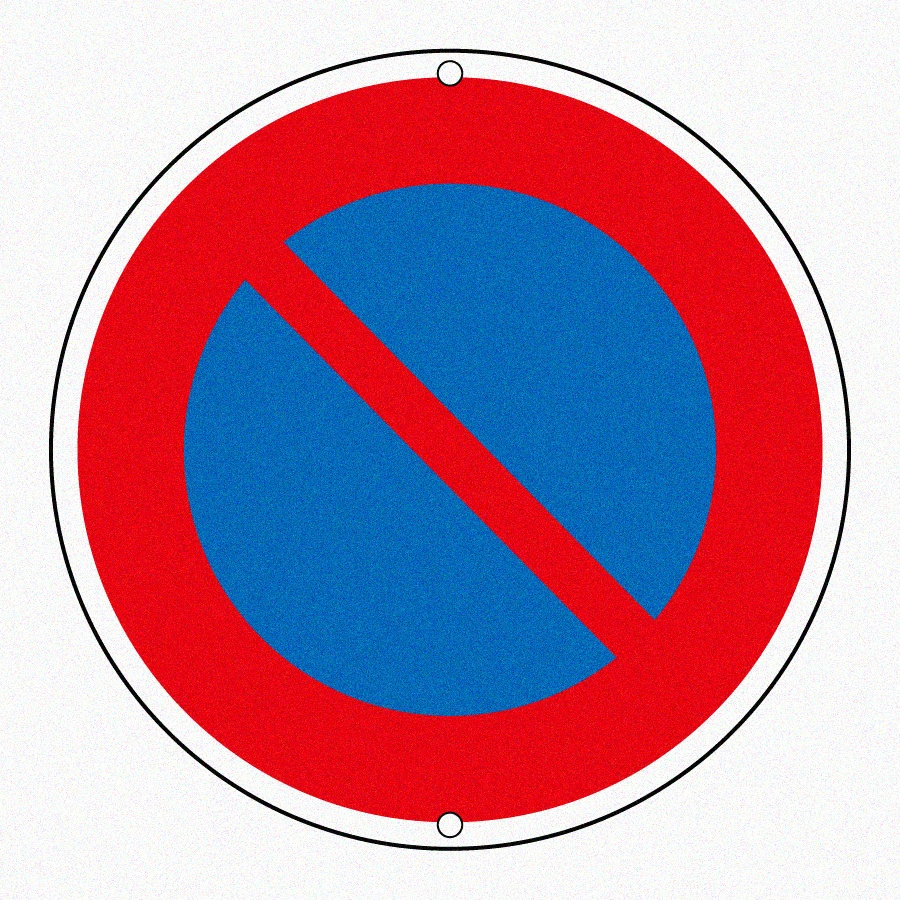Prohibition_sign: (24, 31, 855, 848)
